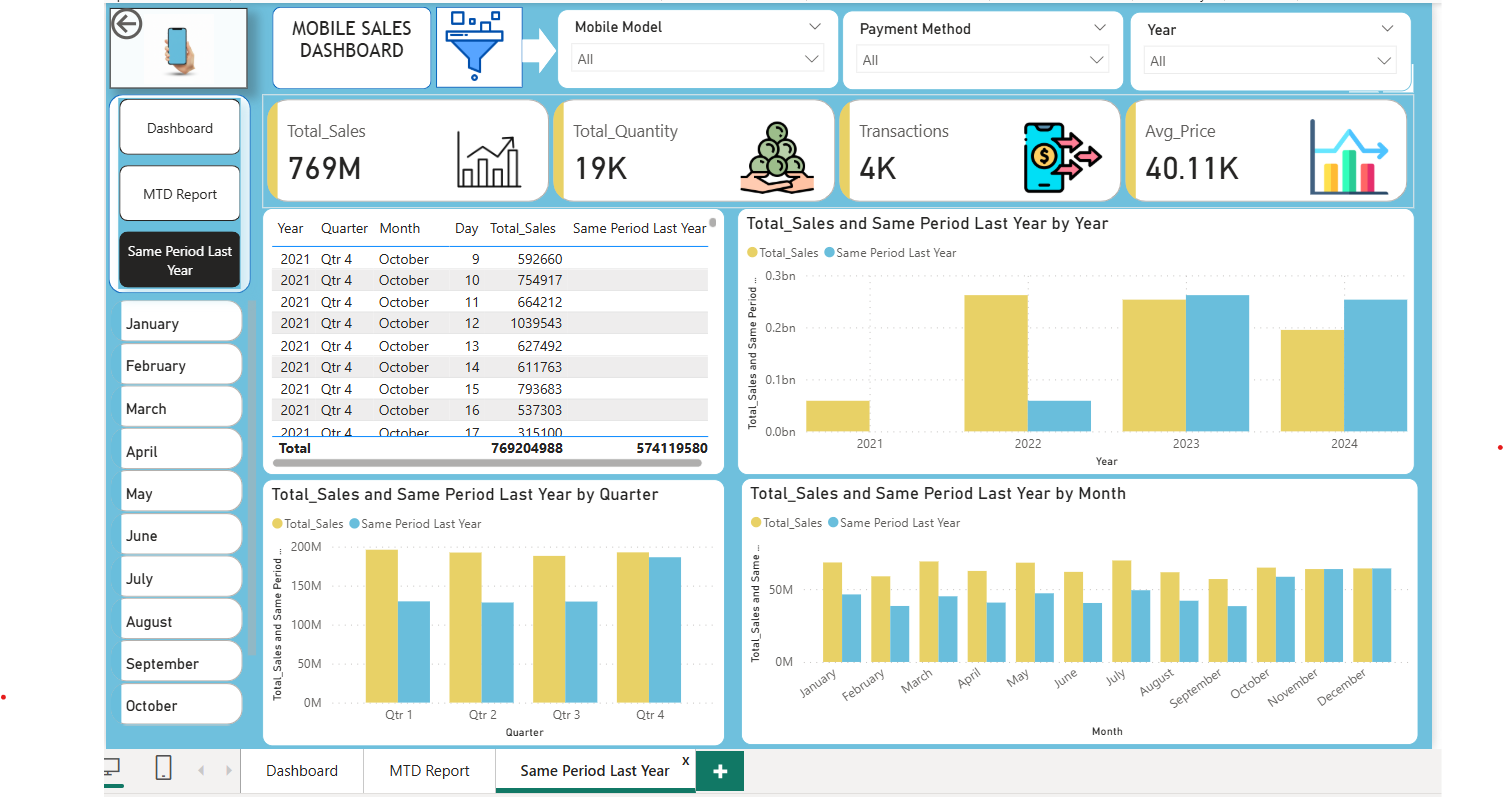

Layout of this report page (visuals, bound fields, positions):
{"tool":"powerbi","page":{"name":"Same Period Last Year","canvas":[1280,720],"ordinal":2},"visuals":[{"type":"image","box":[3.8,5,132.5,77.5],"z":0},{"type":"shape","box":[2.7,87.8,137.2,192.1],"z":1000},{"type":"cardVisual","fields":{"Data":["Sales_Data.Total_Sales","Sales_Data.Total_Quantity","Sales_Data.Total_Transactions","Sales_Data.Avg_Price"]},"box":[150.9,87.8,1111.5,109.8],"z":2000},{"type":"shape","box":[318.4,4.1,83.7,78.2],"z":3000},{"type":"slicer","fields":{"Values":["Sales_Data.Mobile Model"]},"box":[435,5.5,271.7,76.8],"z":4000},{"type":"slicer","fields":{"Values":["Sales_Data.Payment Method"]},"box":[710.8,6.9,271.7,76.8],"z":5000},{"type":"slicer","fields":{"Values":["Customer_Calender.Date.Variation.Date Hierarchy.Year"]},"box":[988,8.2,271.7,76.8],"z":6000},{"type":"image","box":[314.2,2.7,82.3,78.2],"z":7000},{"type":"shape","box":[402.1,24.7,32.9,43.9],"z":8000},{"type":"shape","box":[160.5,4.1,153.7,79.6],"z":9000},{"type":"textbox","box":[170.2,8.2,134.5,72.7],"z":10000},{"type":"actionButton","box":[0,0,100,40],"z":11000},{"type":"advancedSlicerVisual","fields":{"Values":["Customer_Calender.Date.Variation.Date Hierarchy.Month"]},"box":[0,282.7,150.9,425.4],"z":12000},{"type":"tableEx","fields":{"Values":["Customer_Calender.Date.Variation.Date Hierarchy.Year","Customer_Calender.Date.Variation.Date Hierarchy.Quarter","Customer_Calender.Date.Variation.Date Hierarchy.Month","Customer_Calender.Date.Variation.Date Hierarchy.Day","Sales_Data.Total_Sales","Sales_Data.Same Period Last Year"]},"box":[151.2,197.5,446.2,257.5],"z":13000},{"type":"clusteredColumnChart","fields":{"Category":["Customer_Calender.Date.Variation.Date Hierarchy.Year","Customer_Calender.Date.Variation.Date Hierarchy.Quarter","Customer_Calender.Date.Variation.Date Hierarchy.Month","Customer_Calender.Date.Variation.Date Hierarchy.Day"],"Y":["Sales_Data.Total_Sales","Sales_Data.Same Period Last Year"]},"box":[608.8,197.5,653.8,257.5],"z":14000},{"type":"clusteredColumnChart","fields":{"Category":["Customer_Calender.Date.Variation.Date Hierarchy.Year","Customer_Calender.Date.Variation.Date Hierarchy.Quarter","Customer_Calender.Date.Variation.Date Hierarchy.Month","Customer_Calender.Date.Variation.Date Hierarchy.Day"],"Y":["Sales_Data.Total_Sales","Sales_Data.Same Period Last Year"]},"box":[612.5,458.8,653.8,257.5],"z":15000},{"type":"clusteredColumnChart","fields":{"Category":["Customer_Calender.Date.Variation.Date Hierarchy.Year","Customer_Calender.Date.Variation.Date Hierarchy.Quarter","Customer_Calender.Date.Variation.Date Hierarchy.Month","Customer_Calender.Date.Variation.Date Hierarchy.Day"],"Y":["Sales_Data.Total_Sales","Sales_Data.Same Period Last Year"]},"box":[151.2,460,446.2,257.5],"z":16000},{"type":"pageNavigator","box":[12.5,91.2,117.5,183.8],"z":16001}]}

Visuals, with their boxes on the page's 1280x720 design canvas (x1, y1, x2, y2). These are canvas units, not pixel positions in the 1503x797 screenshot, which may show the page scaled, cropped or inside an application window:
image: (4,5,136,82)
shape: (3,88,140,280)
cardVisual - Sales_Data.Total_Sales x Sales_Data.Total_Quantity: (151,88,1262,198)
shape: (318,4,402,82)
slicer - Sales_Data.Mobile Model: (435,6,707,82)
slicer - Sales_Data.Payment Method: (711,7,982,84)
slicer - Customer_Calender.Date.Variation.Date Hierarchy.Year: (988,8,1260,85)
image: (314,3,396,81)
shape: (402,25,435,69)
shape: (160,4,314,84)
textbox: (170,8,305,81)
actionButton: (0,0,100,40)
advancedSlicerVisual - Customer_Calender.Date.Variation.Date Hierarchy.Month: (0,283,151,708)
tableEx - Customer_Calender.Date.Variation.Date Hierarchy.Year x Customer_Calender.Date.Variation.Date Hierarchy.Quarter: (151,198,597,455)
clusteredColumnChart - Customer_Calender.Date.Variation.Date Hierarchy.Year x Customer_Calender.Date.Variation.Date Hierarchy.Quarter: (609,198,1263,455)
clusteredColumnChart - Customer_Calender.Date.Variation.Date Hierarchy.Year x Customer_Calender.Date.Variation.Date Hierarchy.Quarter: (612,459,1266,716)
clusteredColumnChart - Customer_Calender.Date.Variation.Date Hierarchy.Year x Customer_Calender.Date.Variation.Date Hierarchy.Quarter: (151,460,597,718)
pageNavigator: (12,91,130,275)
